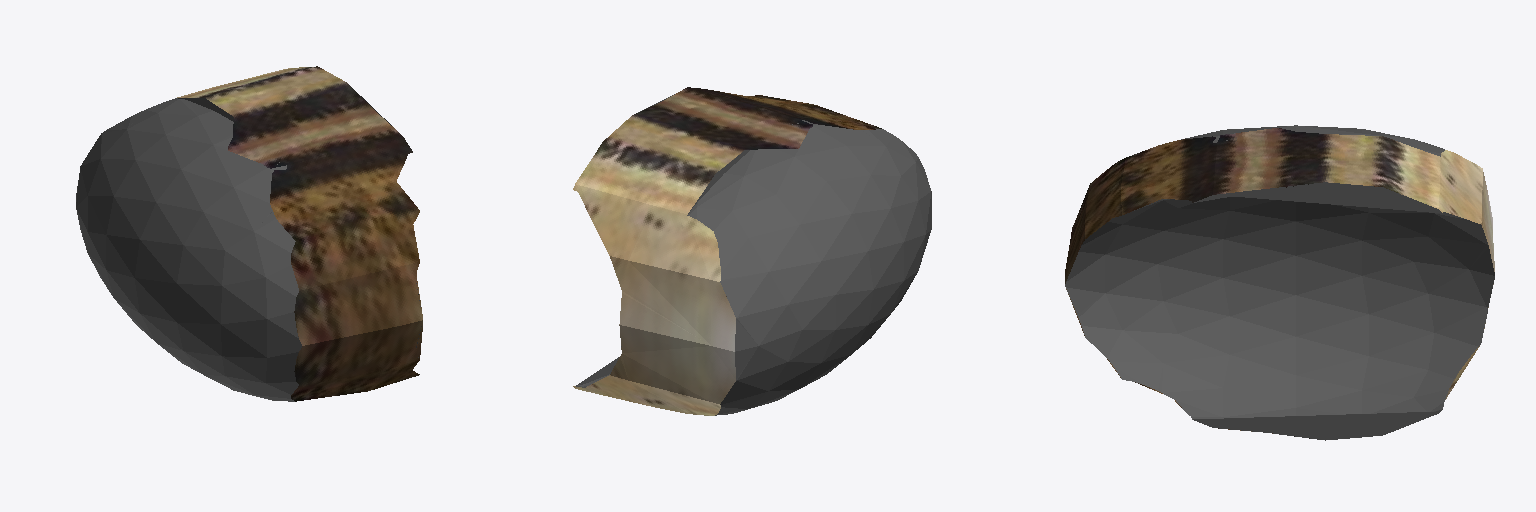
3 views of the same model, side by side, from view 1: azimuth 30°, elevation 25°; view 2: azimuth 150°, elevation 25°; view 3: azimuth 270°, elevation 25° (orthographic).
Bounding box in the file's own units: 0.002 × 0.0022 × 0.0033.
1 materials, 1 textured.